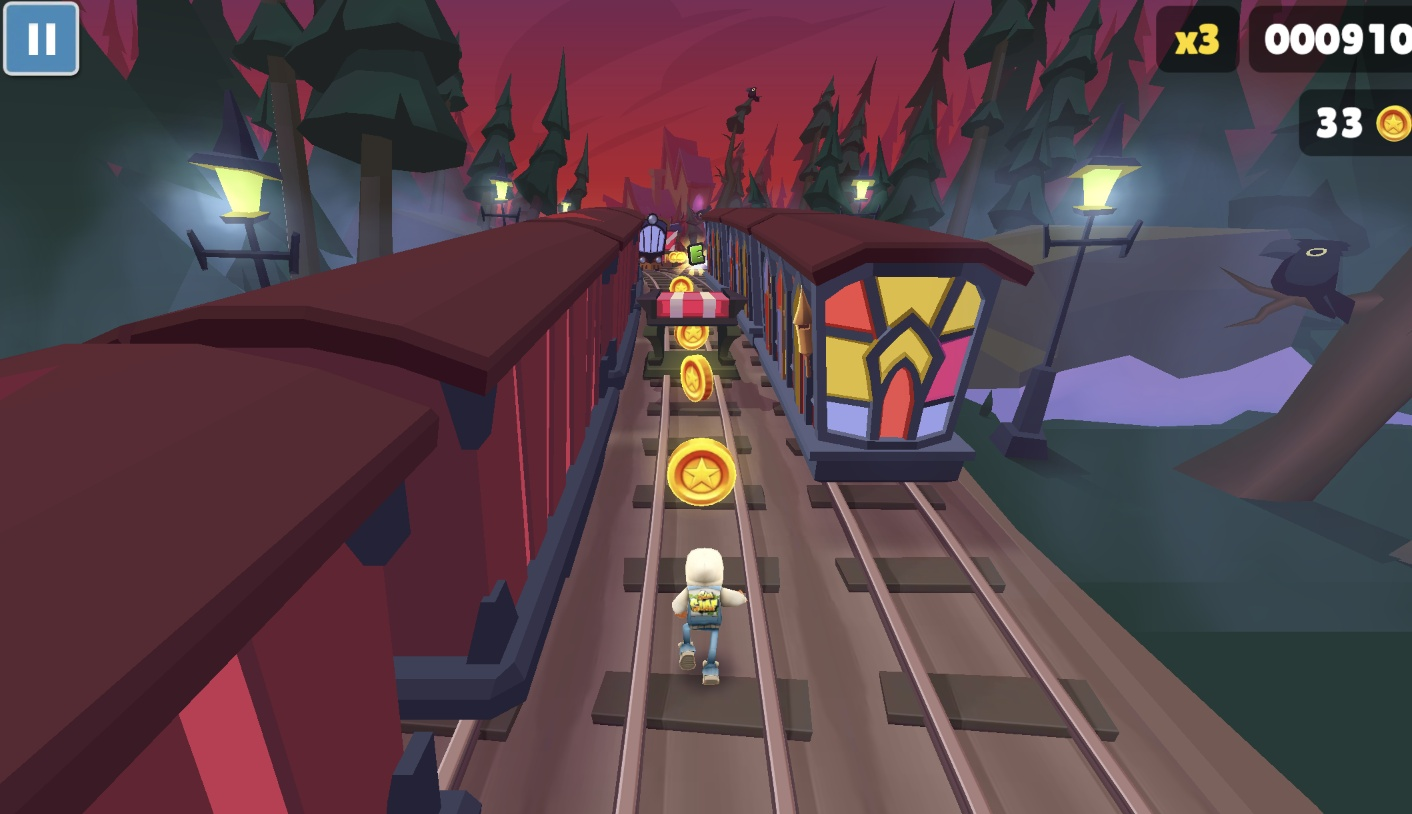ground_barrier: (635, 291, 747, 383)
overhead_barrier: (665, 217, 687, 263)
train: (0, 212, 650, 814), (698, 213, 1058, 509), (639, 215, 679, 272)
